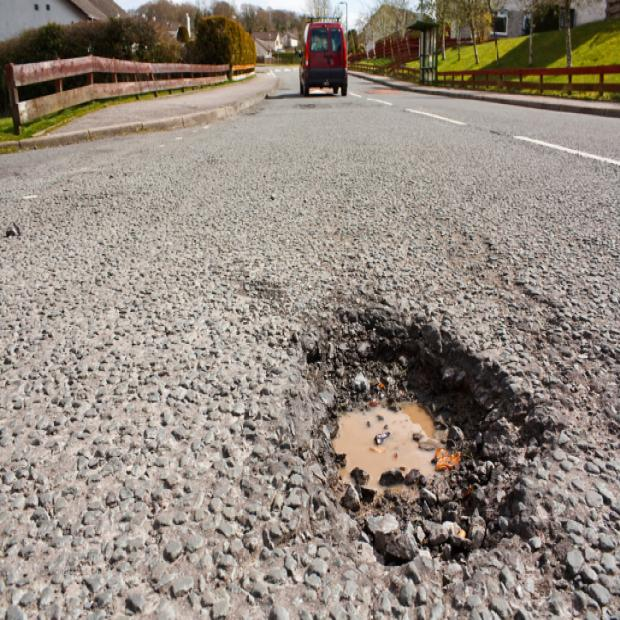lubang: (301, 307, 554, 552)
